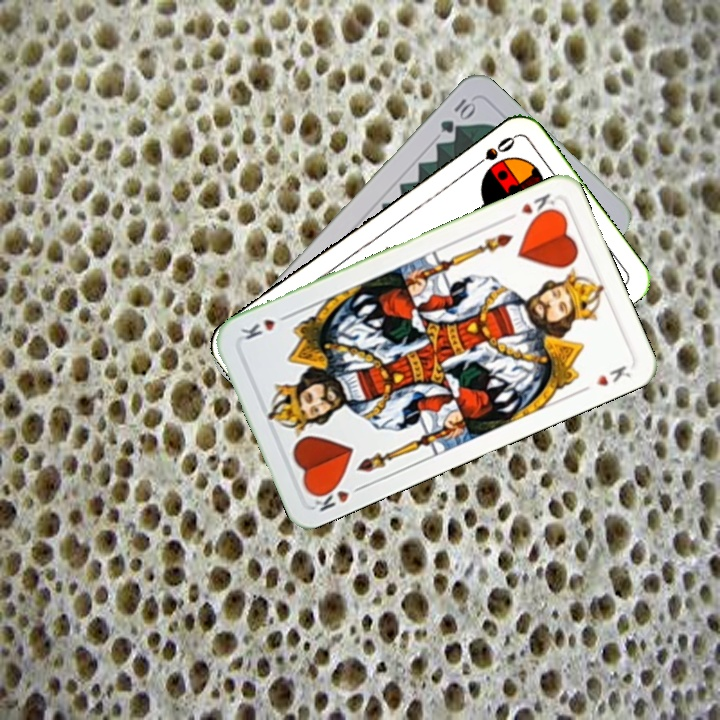G10: (436, 94, 478, 136)
HK: (307, 478, 367, 515), (502, 189, 560, 224)
SO: (466, 132, 518, 173)
